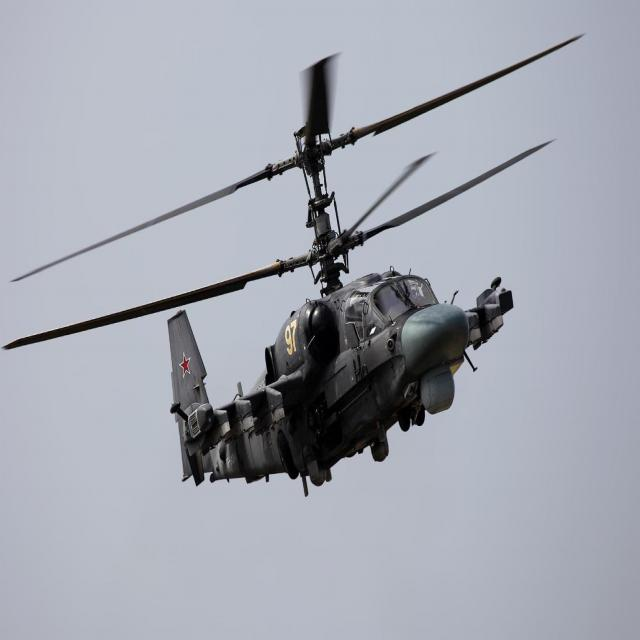MIL_HELO: (63, 49, 526, 503)
